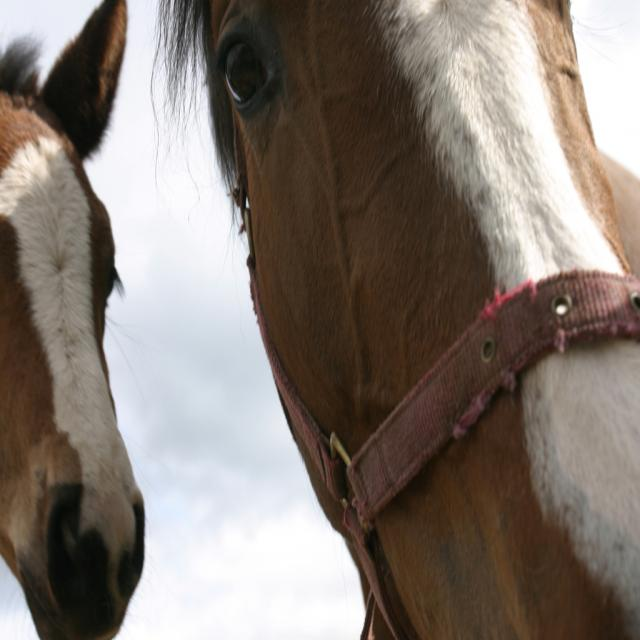Horse: (146, 0, 640, 640), (0, 0, 146, 640)
